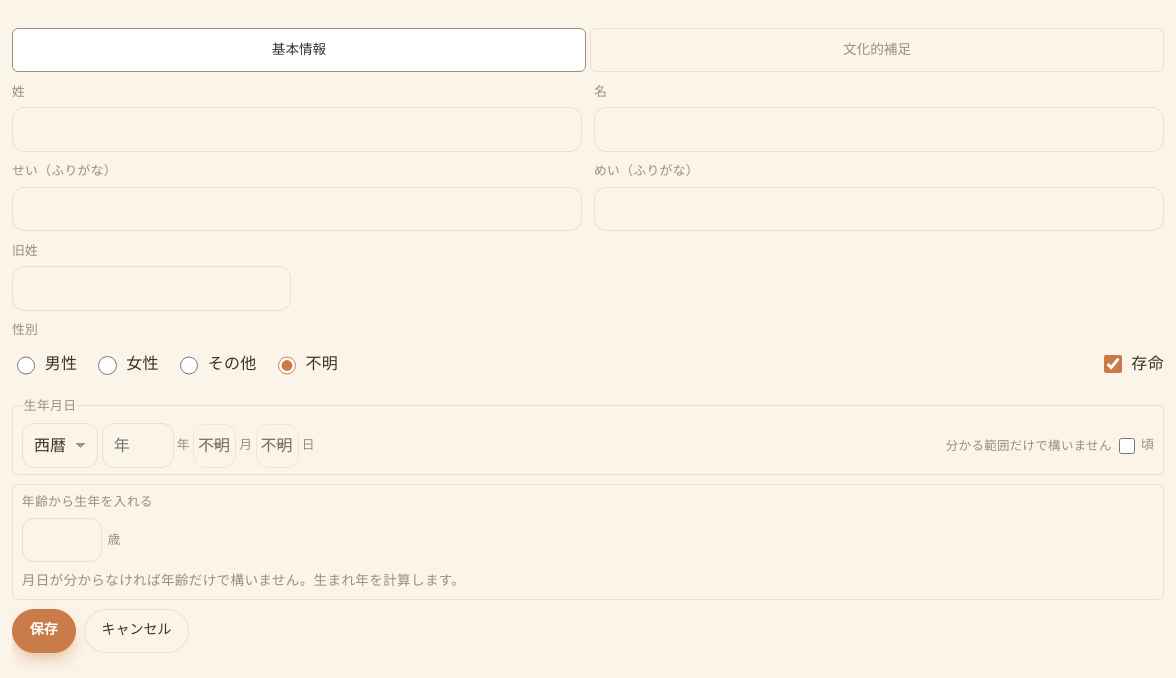
Test case: PersonForm › 姓も名も空で保存すると、基本情報のタブへ戻して知らせる
This screenshot has width=1176, height=678.
Click the tab "文化的補足" at (877, 50), box [590,28,1164,72]
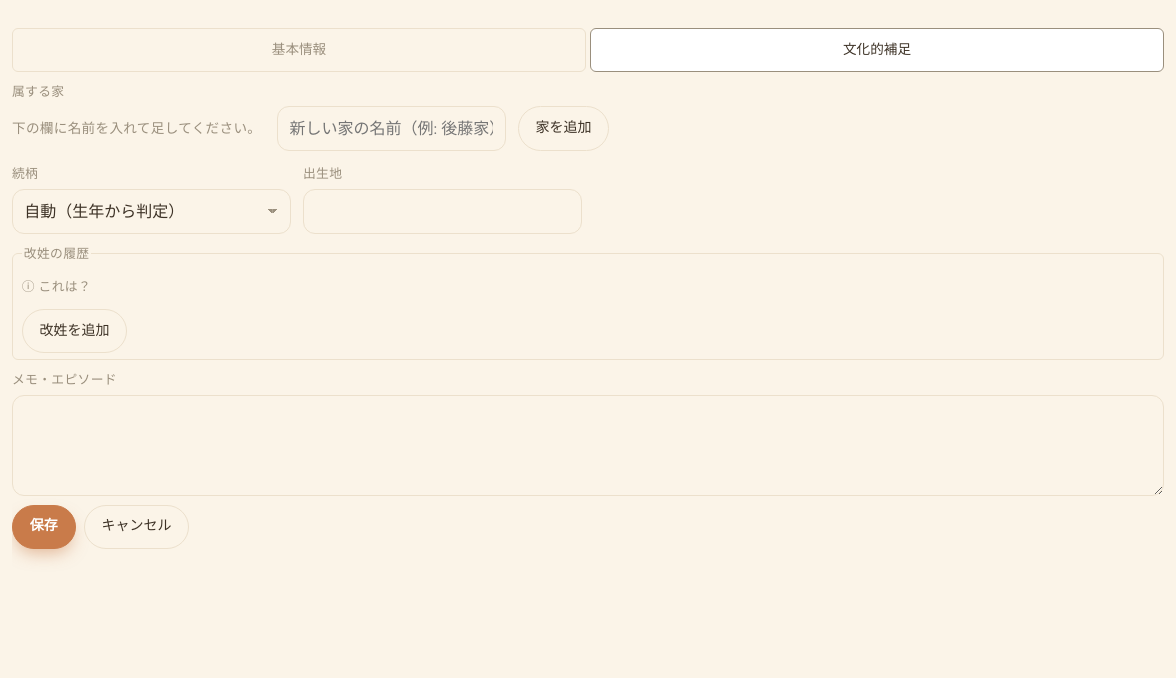
Click the button "保存" at (44, 527), box [12,505,76,549]
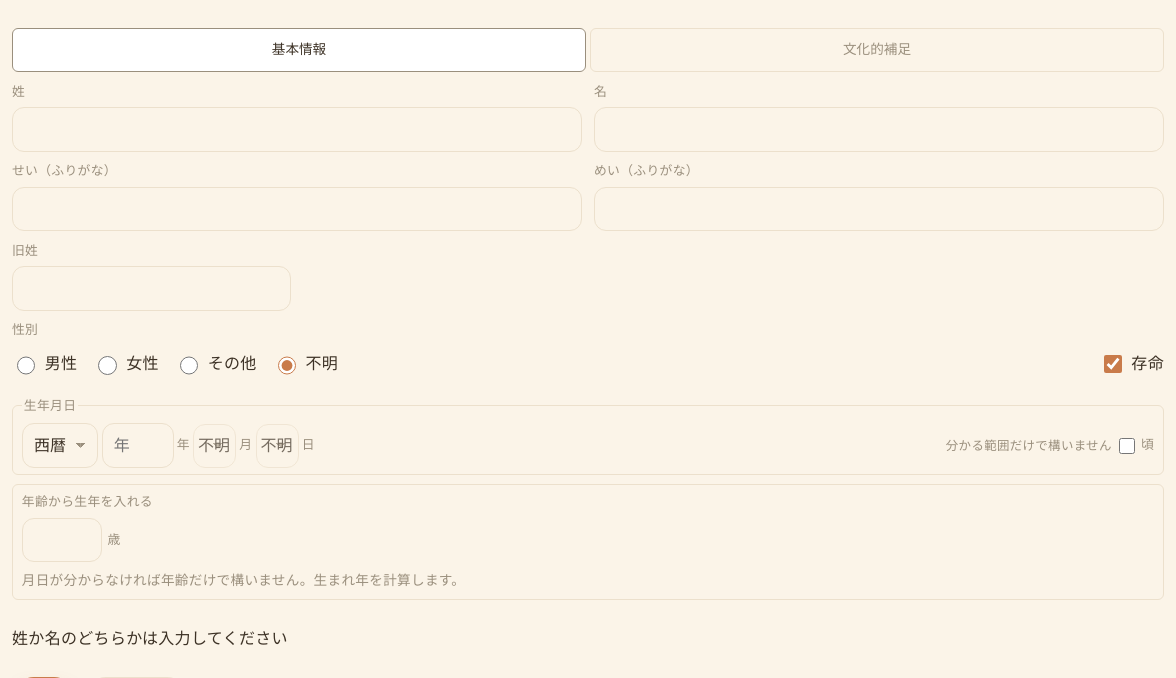
Now the text "姓か名のどちらかは入力してください" is shown, box [12,628,288,650]
